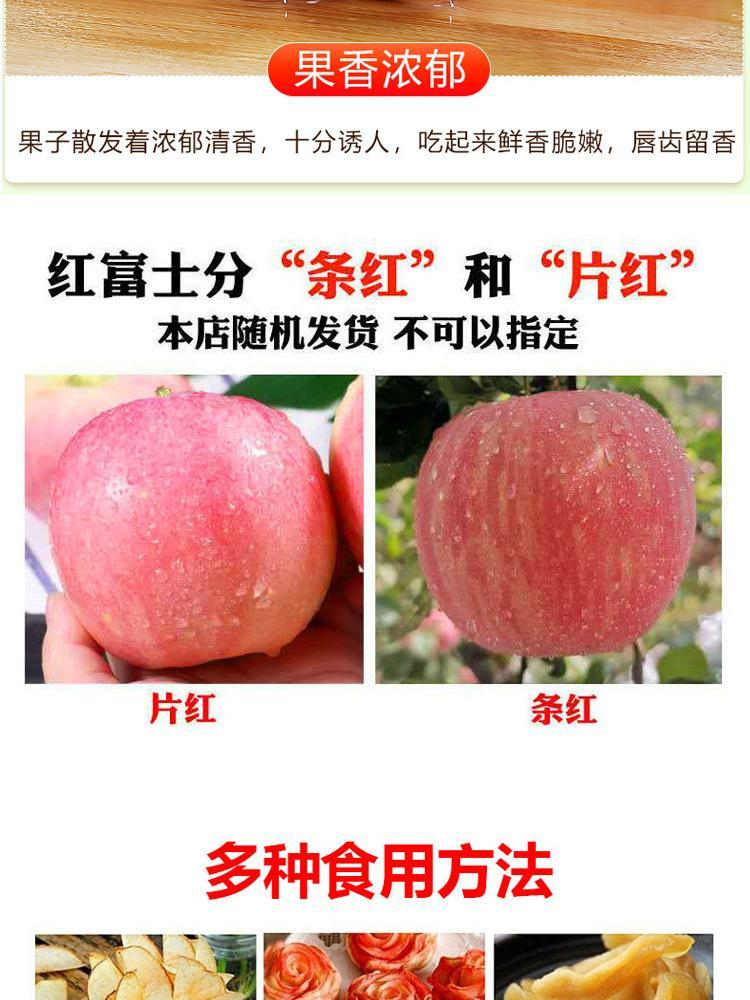apple: (45, 386, 338, 674), (414, 389, 691, 656)
